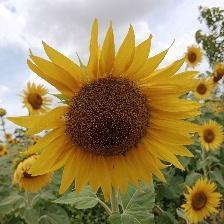sunflower: (7, 19, 204, 204)
